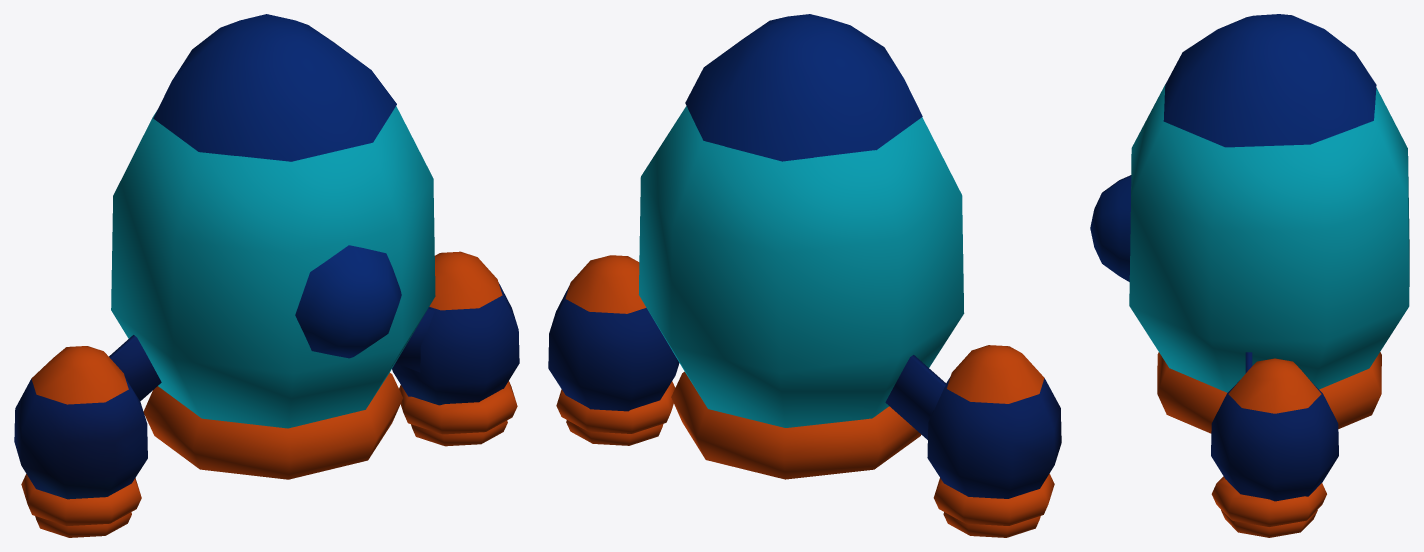
The model's file is Foguete.fbx.
3 views of the same model, side by side, from view 1: azimuth 30°, elevation 25°; view 2: azimuth 150°, elevation 25°; view 3: azimuth 270°, elevation 25° (orthographic). The views are drawn at different scales.
Visible parts, largest first — view 1: Foguete.001; view 2: Foguete.001; view 3: Foguete.001.
Part boxes in pixels (bbox=[...]): Foguete.001: bbox=[14, 14, 519, 537]; Foguete.001: bbox=[548, 14, 1061, 537]; Foguete.001: bbox=[1090, 14, 1409, 537].
Size of the model in its own units: 7.65 by 6.66 by 4.62.
